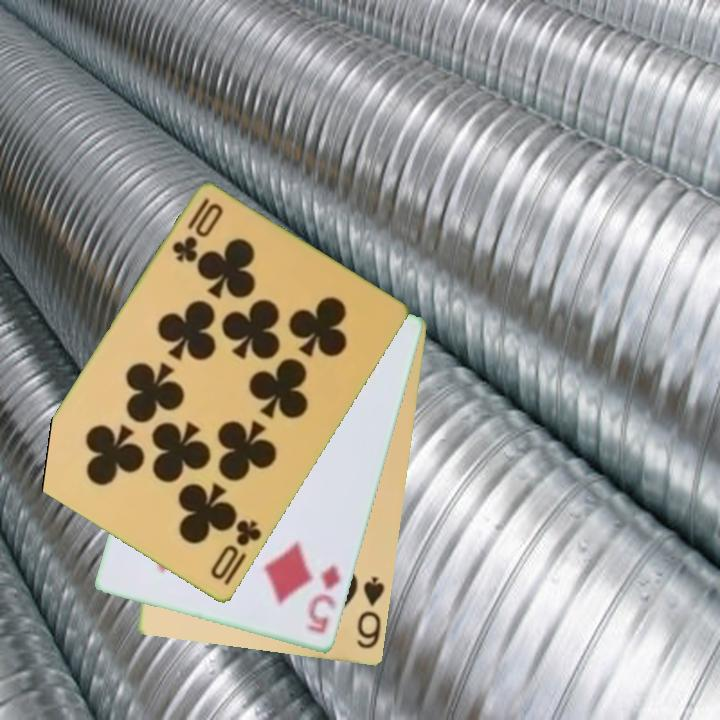10c: (168, 195, 226, 267), (207, 516, 265, 584)
5d: (302, 561, 343, 637)
6s: (354, 573, 388, 652)
